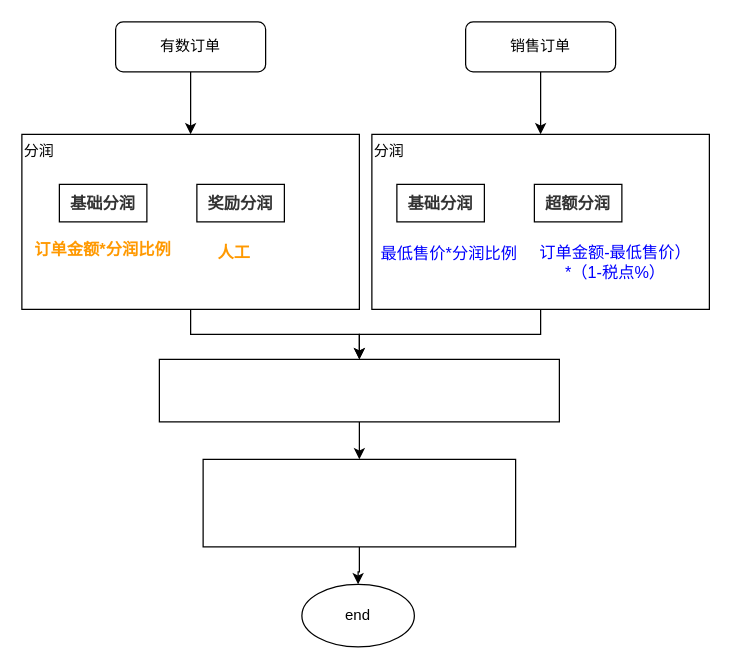
Some shapes in this 731 by 669 pixel diagram are drawn without their labels. The shapes that lost their labels are listed below. From the top down, each one's centre as x and y in pixels, then its label:
(x=358, y=390): 生成分润明细
(x=359, y=502): 1：过滤出需参与分润汇总的数据 2： 月份+经销商+ 行业 +结算类型 进行汇总数据
